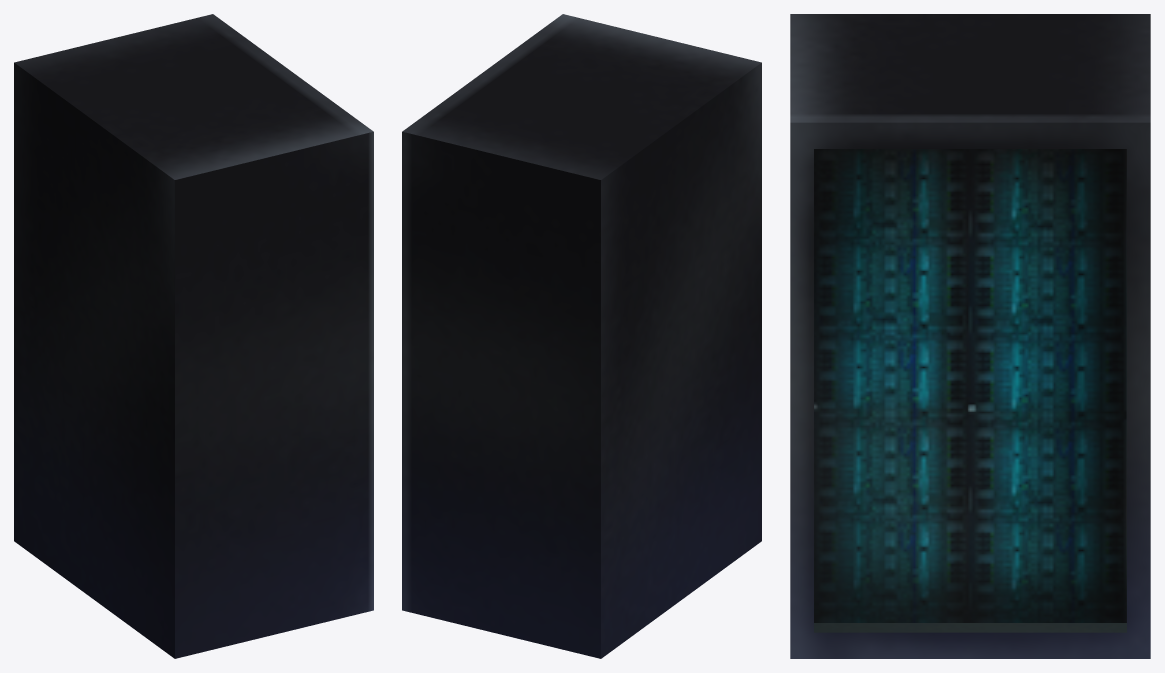
File: BgMD_SystemRoom_Supacon_0201.fbx
3 renders of one model, left to right at view 1: azimuth 30°, elevation 25°; view 2: azimuth 150°, elevation 25°; view 3: azimuth 270°, elevation 25°, orthographic. The views are drawn at different scales.
Visible parts, largest first — view 1: polySurface33; view 2: polySurface33; view 3: polySurface33.
Part boxes in pixels (<box>): polySurface33: <box>14,14,373,658</box>; polySurface33: <box>402,14,761,658</box>; polySurface33: <box>790,14,1150,658</box>.
Size of the model in its own units: 100 by 230 by 140.
